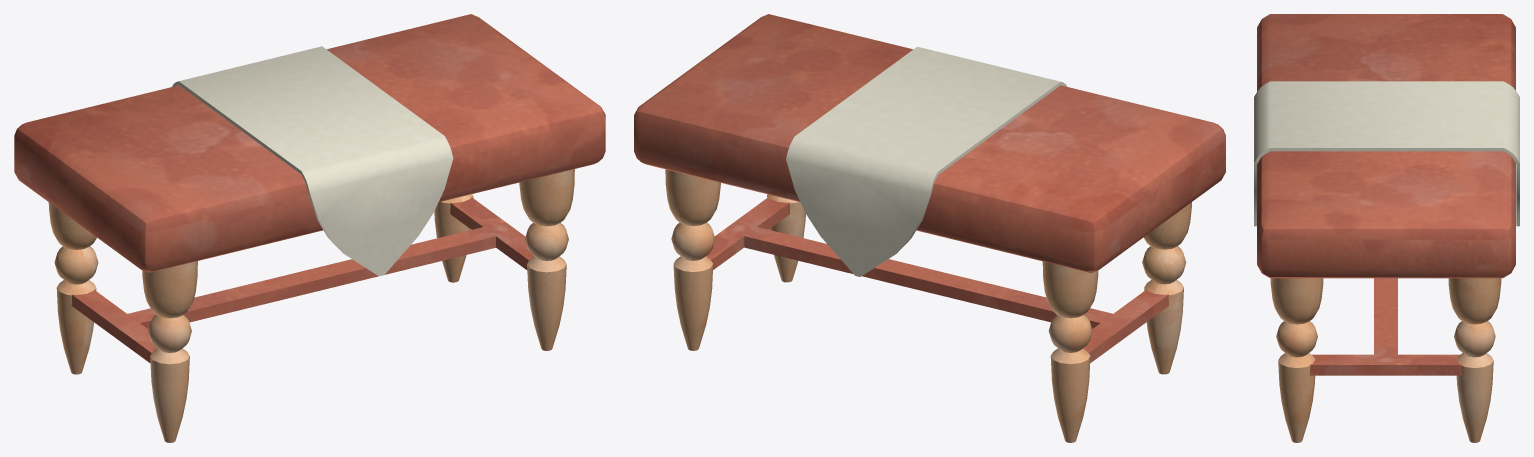
The model's file is SM_Table.fbx.
3 renders of one model, left to right at view 1: azimuth 30°, elevation 25°; view 2: azimuth 150°, elevation 25°; view 3: azimuth 270°, elevation 25°, orthographic. The views are drawn at different scales.
Visible parts, largest first — view 1: SM_Table_pt1, SM_Table_pt2; view 2: SM_Table_pt1, SM_Table_pt2; view 3: SM_Table_pt2, SM_Table_pt1.
Boxes of the visible parts, box(x1,y1,x2,y2) form: SM_Table_pt1: box(14, 63, 381, 442); SM_Table_pt2: box(251, 14, 605, 350); SM_Table_pt1: box(857, 64, 1225, 442); SM_Table_pt2: box(634, 14, 988, 350); SM_Table_pt2: box(1254, 114, 1519, 442); SM_Table_pt1: box(1254, 14, 1519, 129).
Size of the model in its own units: 198 by 101 by 102.
